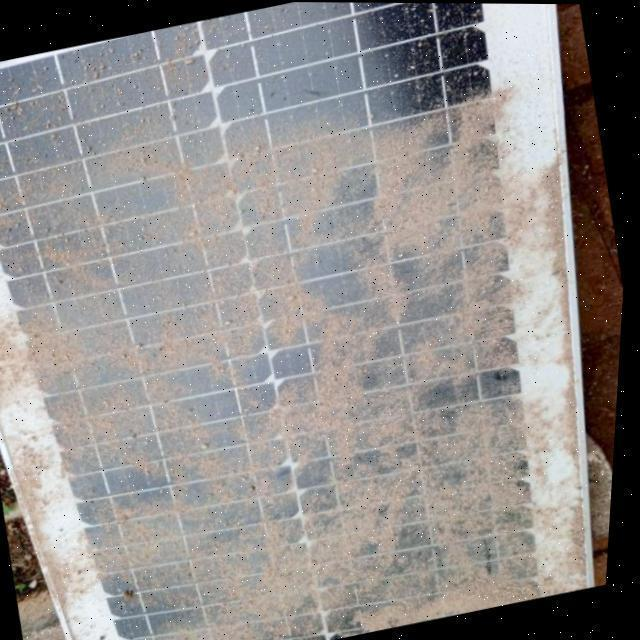Anomaly Solar Panel: (0, 0, 630, 640)
Surface Contaminant: (0, 2, 527, 504)
